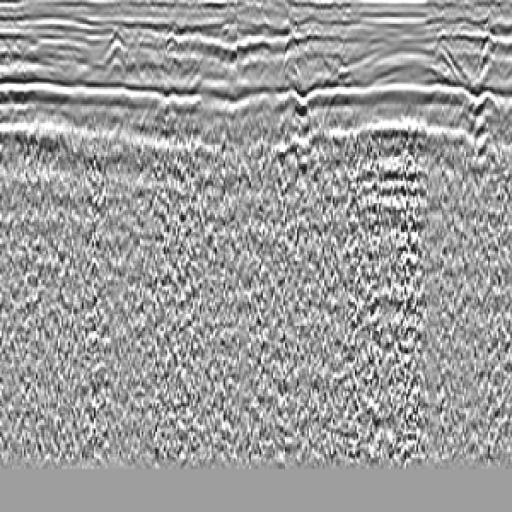non-metallic: (254, 66, 344, 240), (435, 75, 512, 218)
